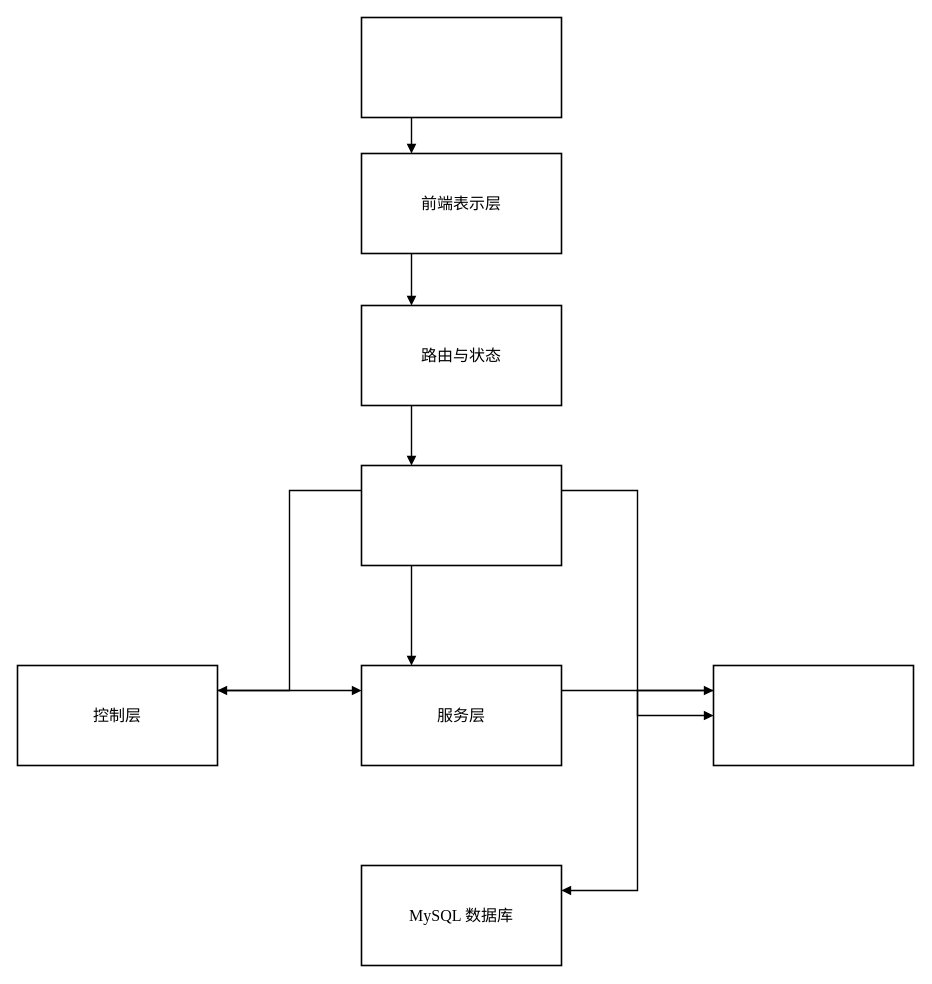
This 932x984 diagram has some shape labels left out. The box of each missing label's shape, as (x1, y1, x2, y2) in pixels:
接口访问层: (360, 464, 562, 566)
数据访问层: (712, 664, 914, 766)
浏览器访问: (360, 16, 562, 118)
